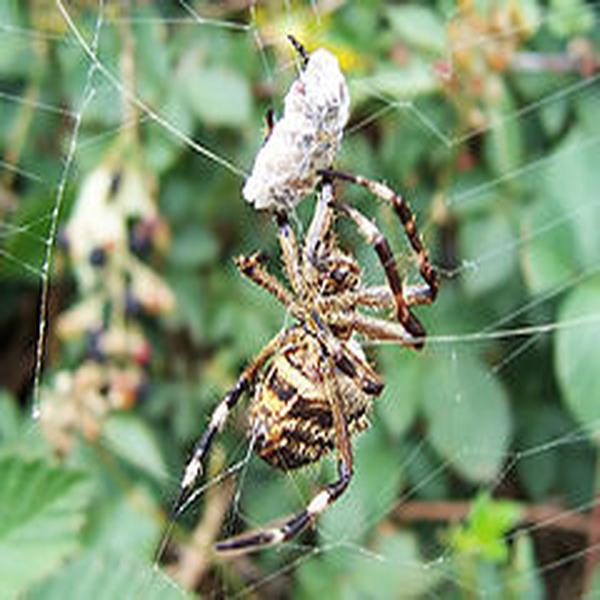Garden Orb Weaver Spider: (179, 69, 429, 555)
